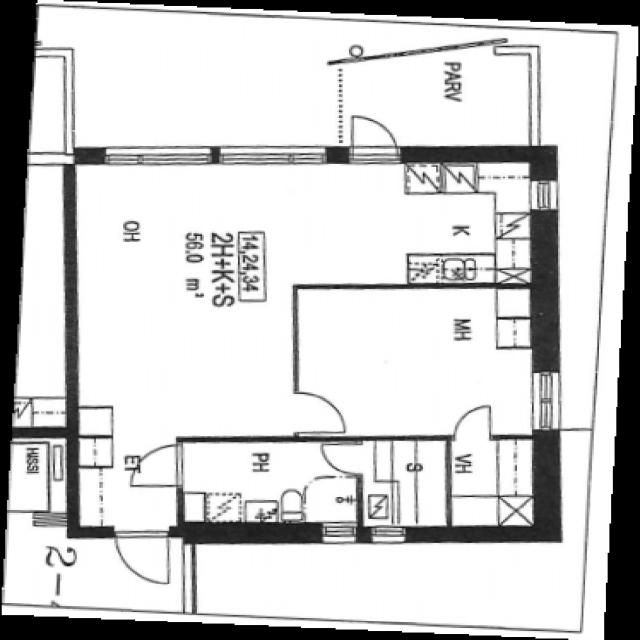door: (110, 524, 176, 588), (121, 438, 190, 493), (340, 110, 406, 164), (285, 384, 354, 435), (444, 399, 502, 441), (314, 437, 369, 478)
window: (212, 138, 332, 170), (96, 140, 218, 170), (528, 364, 565, 437), (525, 174, 563, 216), (315, 520, 360, 544), (367, 525, 412, 545)
zone: (292, 287, 545, 438), (178, 440, 372, 528), (446, 434, 537, 534), (362, 437, 448, 537)
